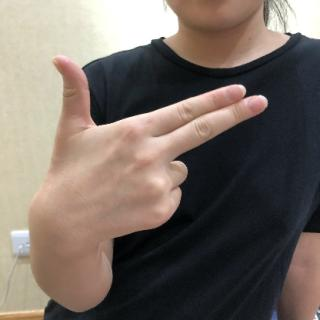GHAYN: (41, 49, 270, 241)
